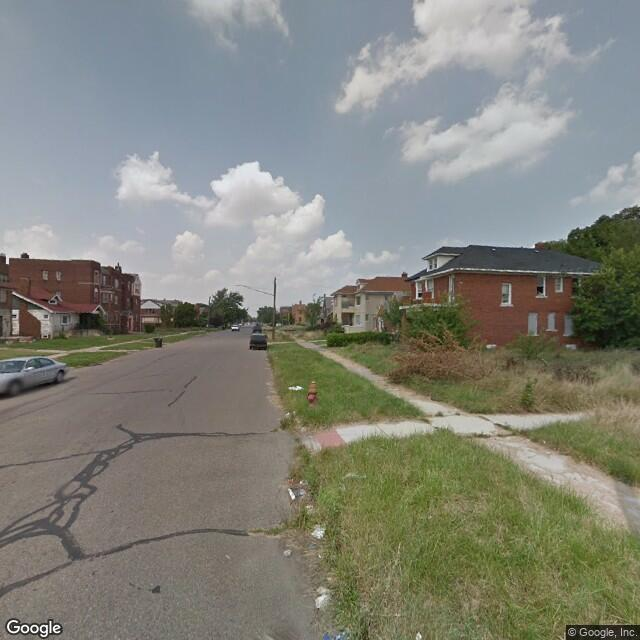litter: (312, 585, 336, 609), (323, 629, 348, 640), (415, 624, 428, 640), (306, 529, 328, 538), (286, 486, 301, 498), (286, 383, 301, 392), (280, 548, 293, 557)
